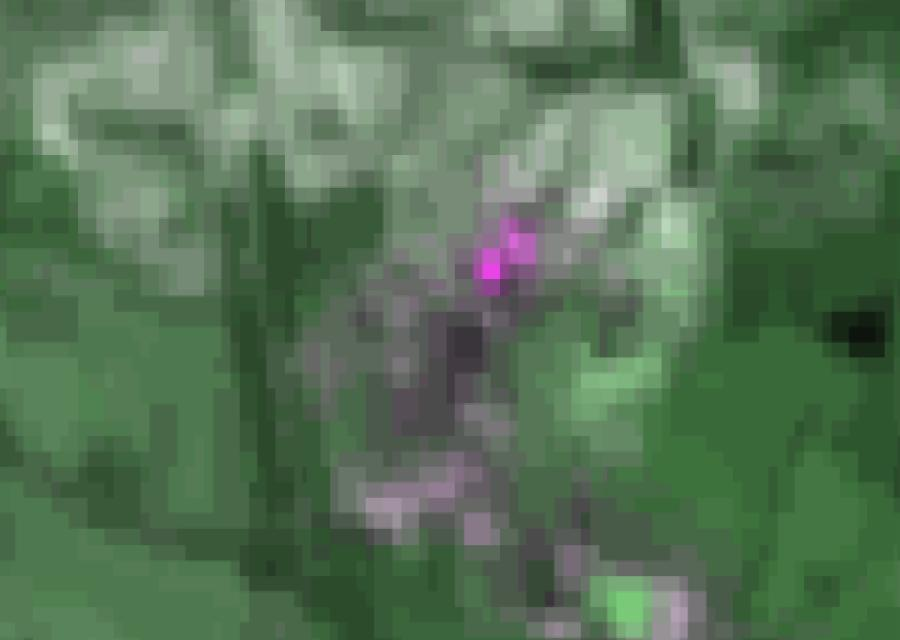Potential Lime Manufacturing Facility: (481, 234, 532, 281)
